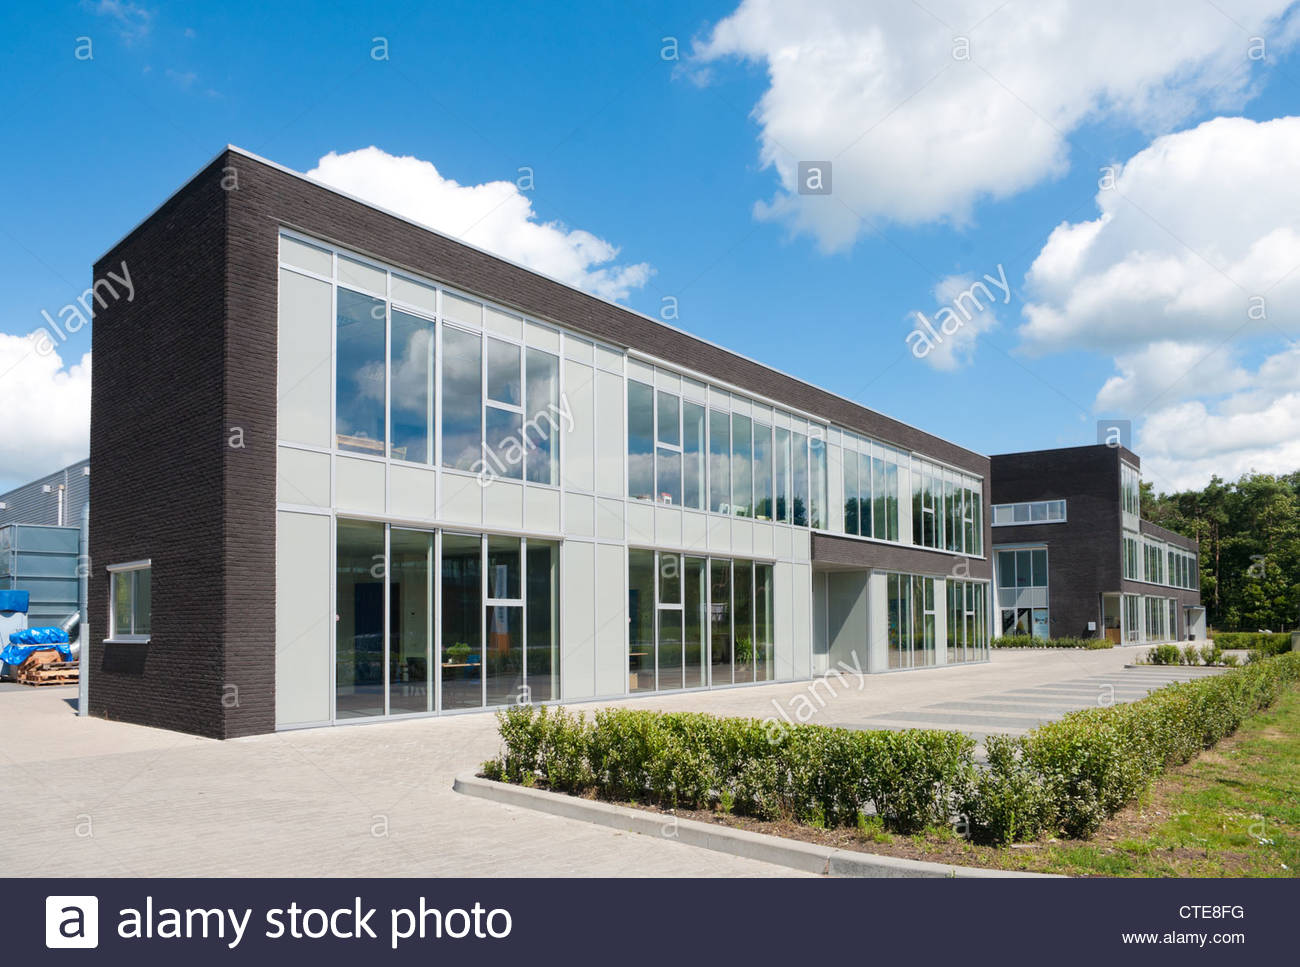Building House: (77, 142, 1221, 713)
